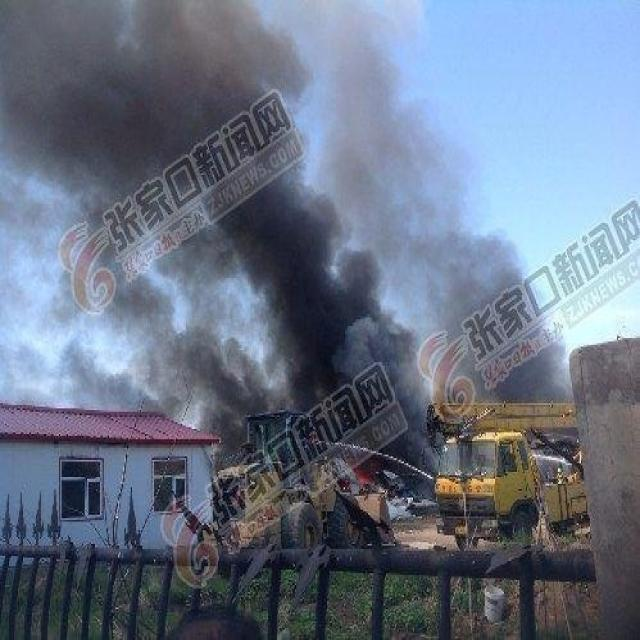Smoke: (1, 1, 571, 498)
